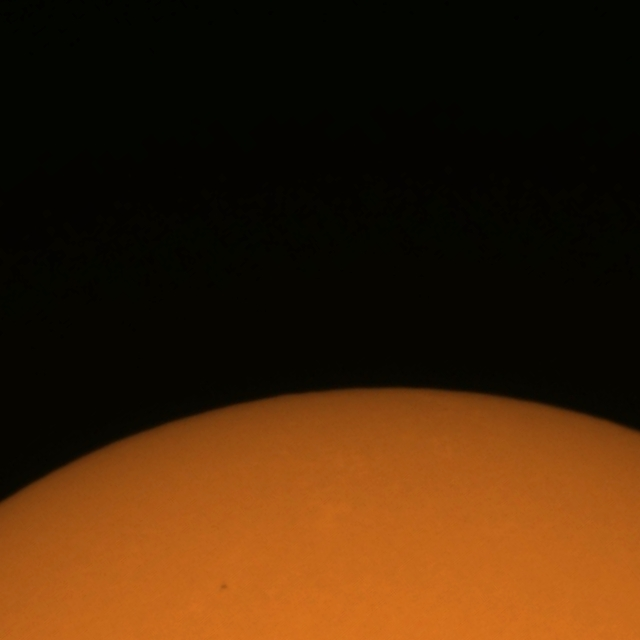sunspot: (219, 582, 229, 592)
